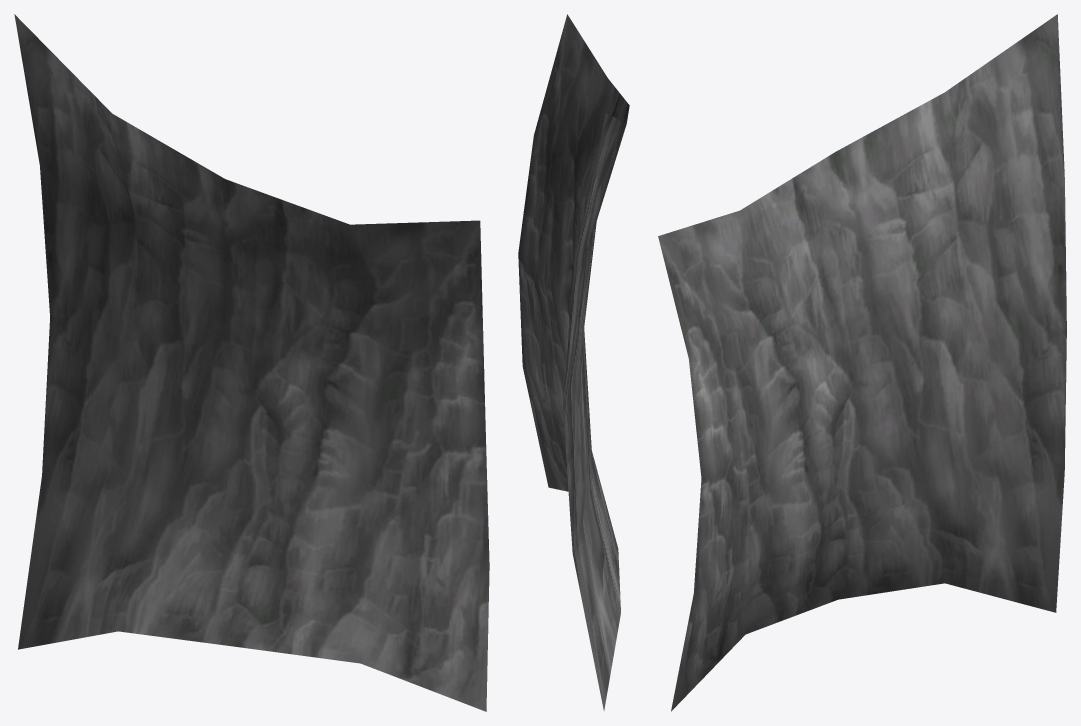
The model's file is SWORDLIGHT20_PS-AREA03_29.fbx.
The picture shows the model from 3 angles, left to right: view 1: azimuth 30°, elevation 25°; view 2: azimuth 150°, elevation 25°; view 3: azimuth 270°, elevation 25°; orthographic projection. The views are drawn at different scales.
Visible parts, largest first — view 1: SWORDLIGHT20_PS-AREA03_29; view 2: SWORDLIGHT20_PS-AREA03_29; view 3: SWORDLIGHT20_PS-AREA03_29.
Boxes of the visible parts, x1,y1,x2,y2 form: SWORDLIGHT20_PS-AREA03_29: (14,14,489,711); SWORDLIGHT20_PS-AREA03_29: (518,14,629,710); SWORDLIGHT20_PS-AREA03_29: (658,14,1066,711).
Bounding box in the file's own units: 43901 × 94515 × 58605.
1 material, 1 textured.
